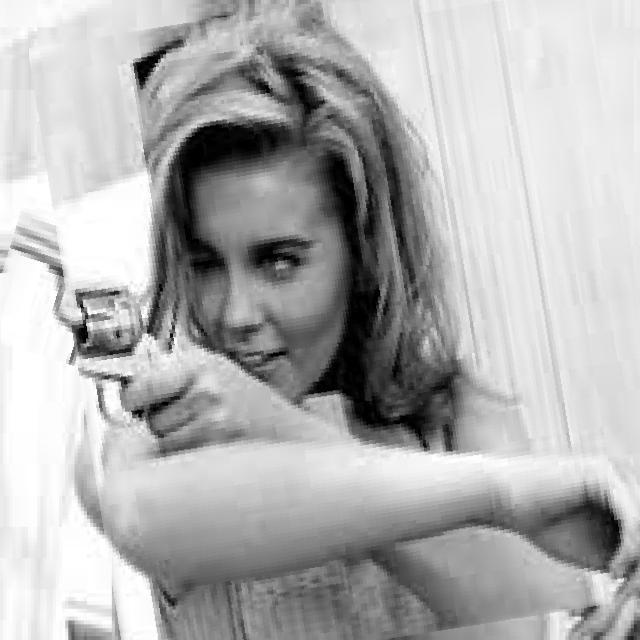Gun_Holder: (15, 205, 160, 389)
Person: (64, 22, 616, 640)
